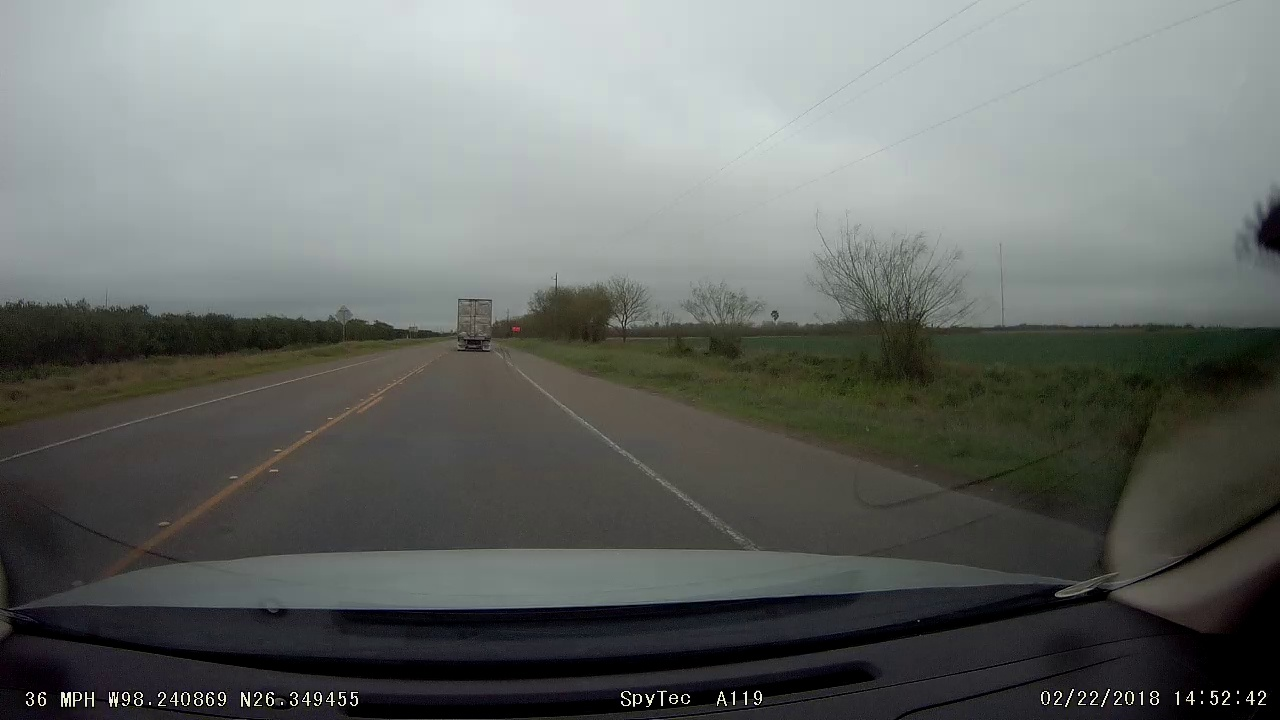blurredLine: (650, 471, 745, 541)
